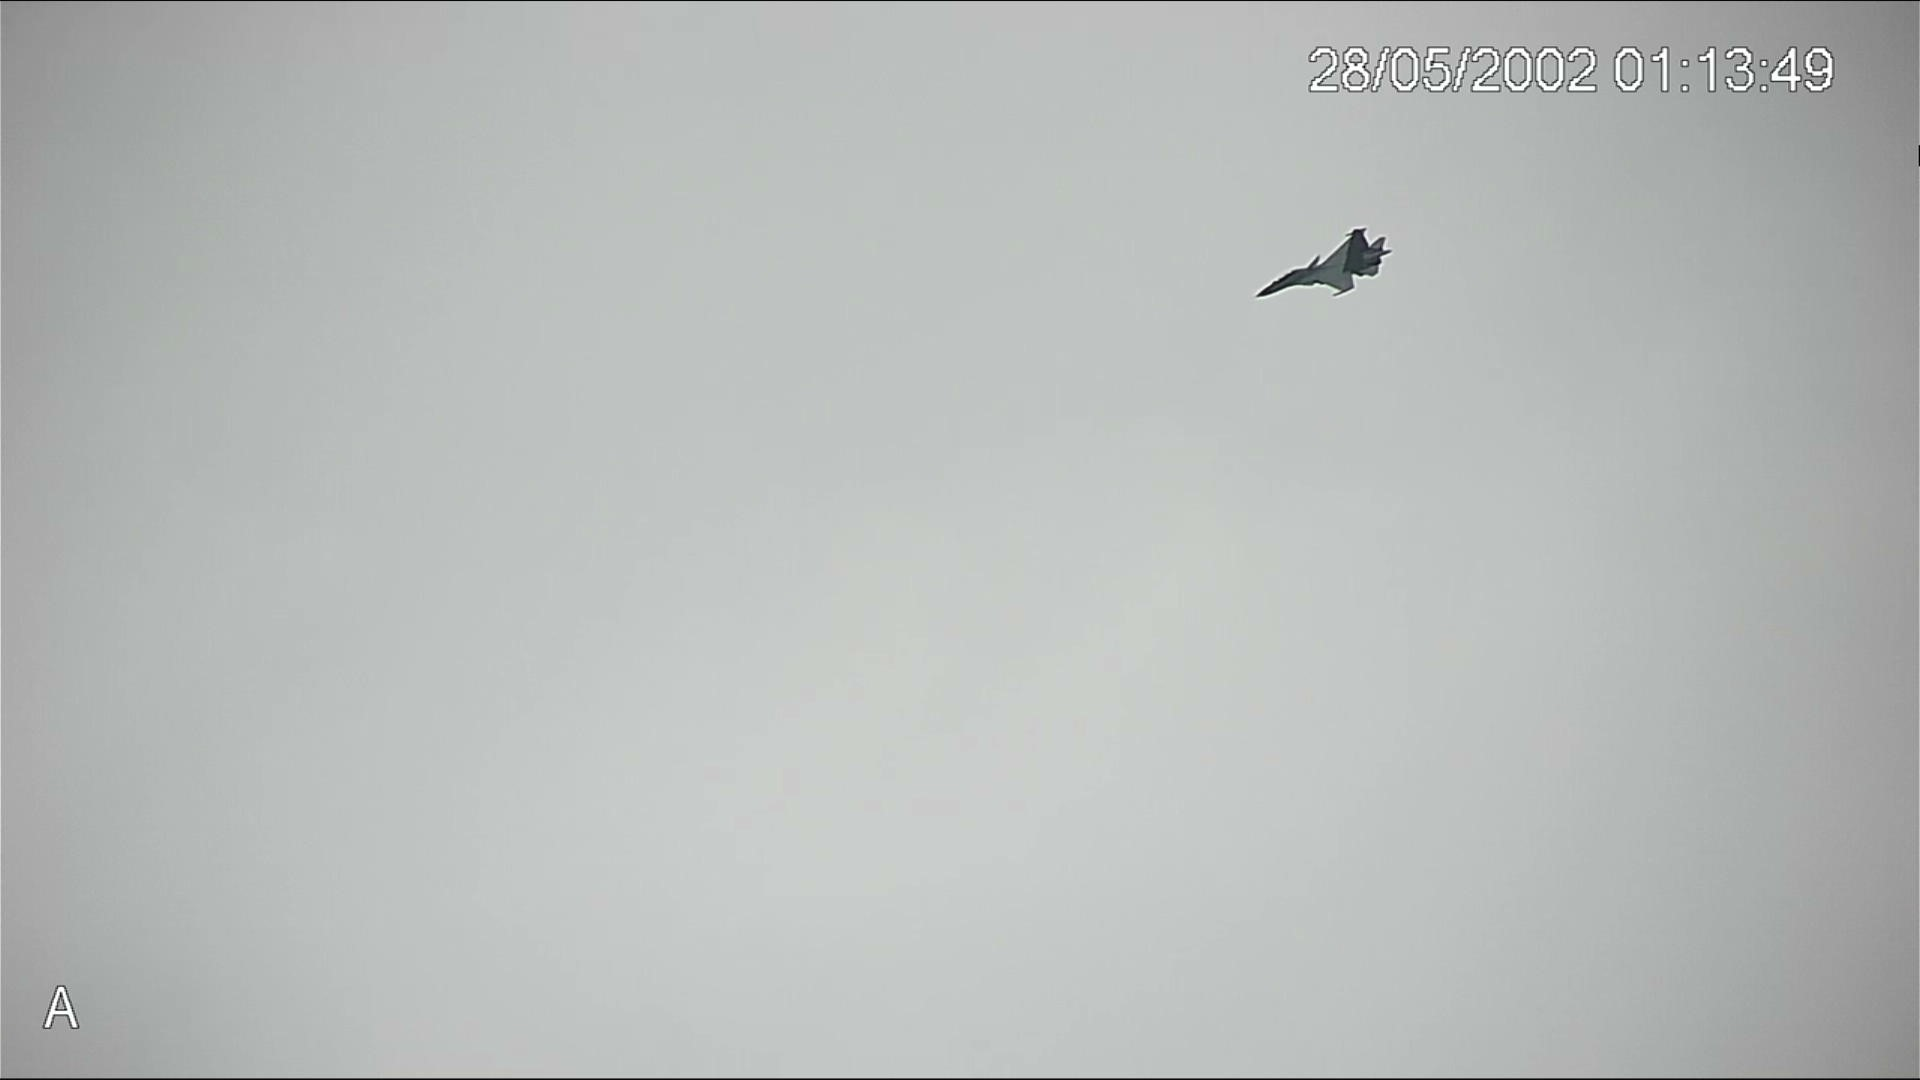SU_30: (1246, 222, 1393, 302)
